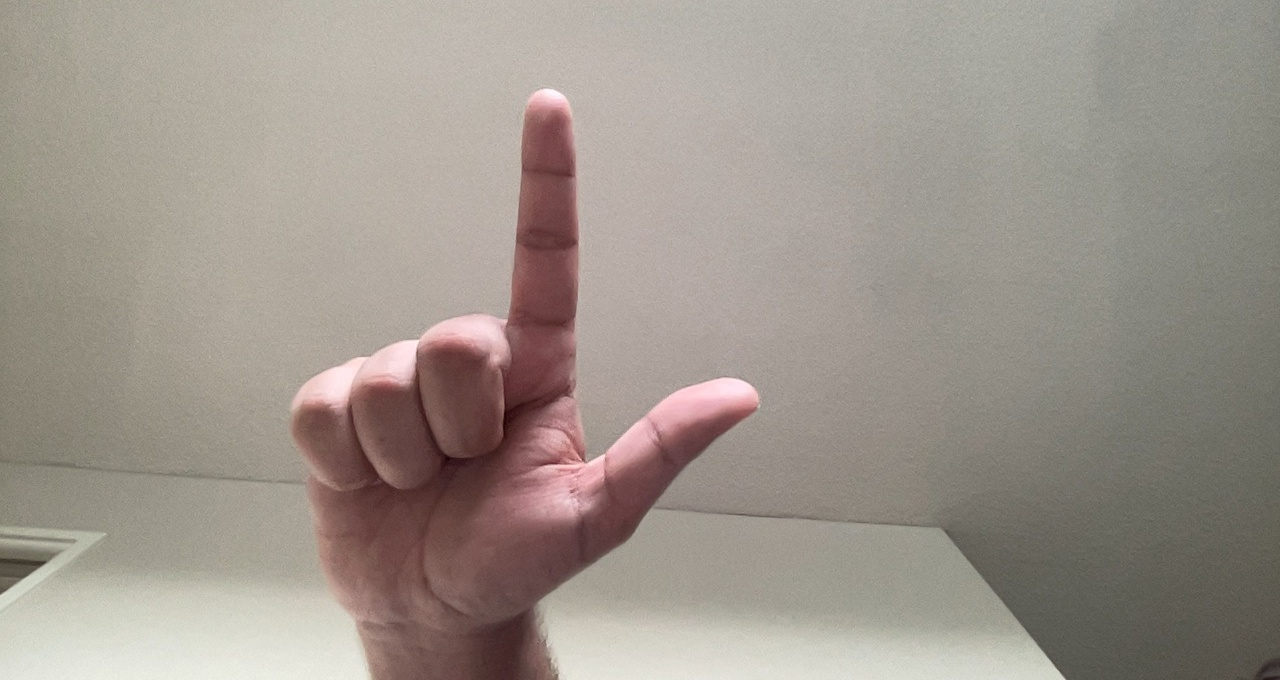L: (277, 74, 763, 661)
